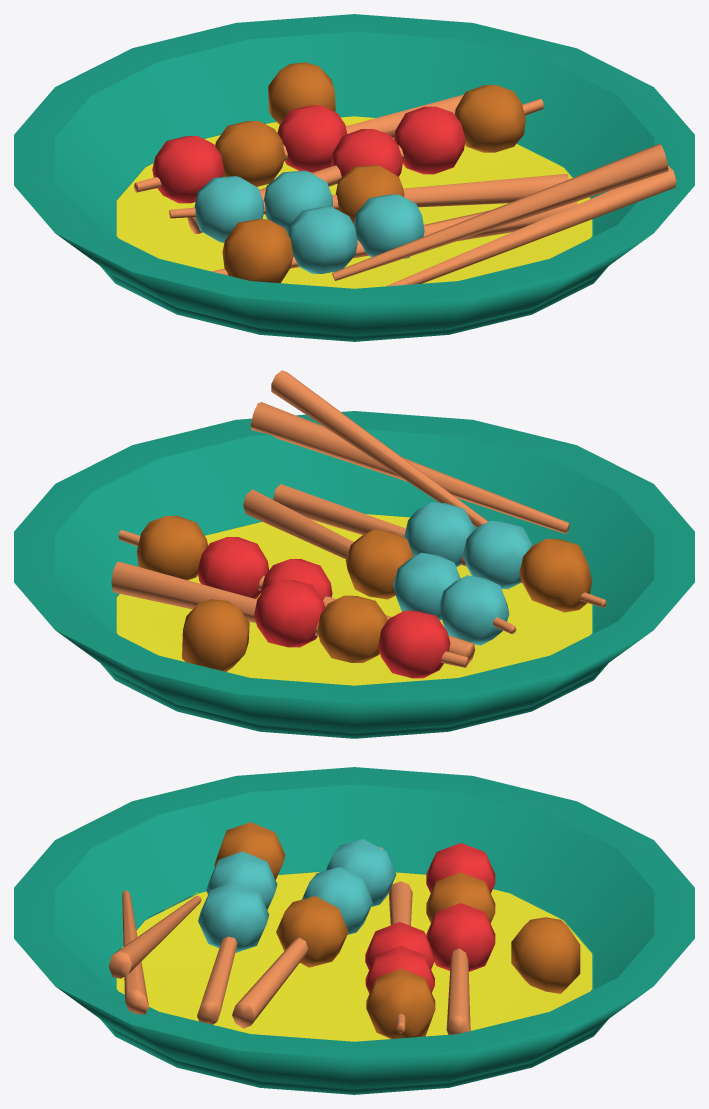
Rendered from SM_Tankhulu_1.fbx.
3 renders of one model, top to bottom at view 1: azimuth 30°, elevation 25°; view 2: azimuth 150°, elevation 25°; view 3: azimuth 270°, elevation 25°, orthographic.
Parts seen in each view (by area): view 1: SM_Tankhulu_1; view 2: SM_Tankhulu_1; view 3: SM_Tankhulu_1.
Part boxes in pixels (x1,y1,x2,y2): SM_Tankhulu_1: (14, 14, 694, 341); SM_Tankhulu_1: (14, 370, 694, 738); SM_Tankhulu_1: (14, 767, 694, 1094).
Bounding box in the file's own units: 32.57 × 32.08 × 6.23.
